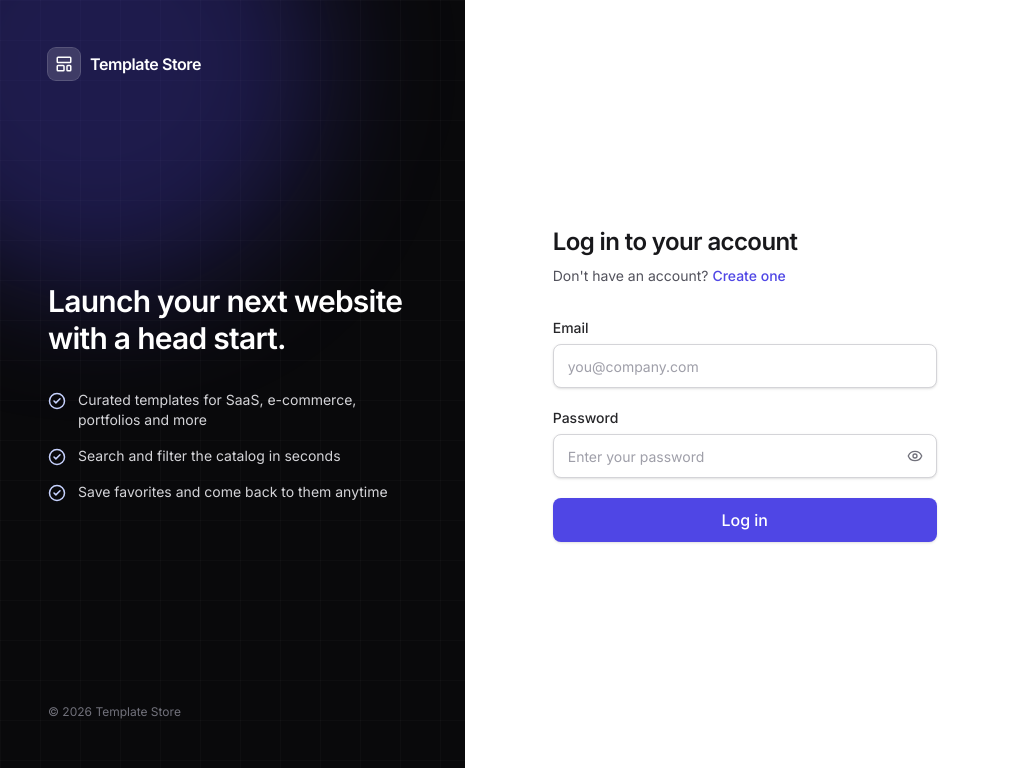
Test: Login page › shows the API error when credentials are rejected
The image size is (1024, 768).
Type "ada@example.com" into the field labelled "Email" at (745, 366), box [553,344,937,388]
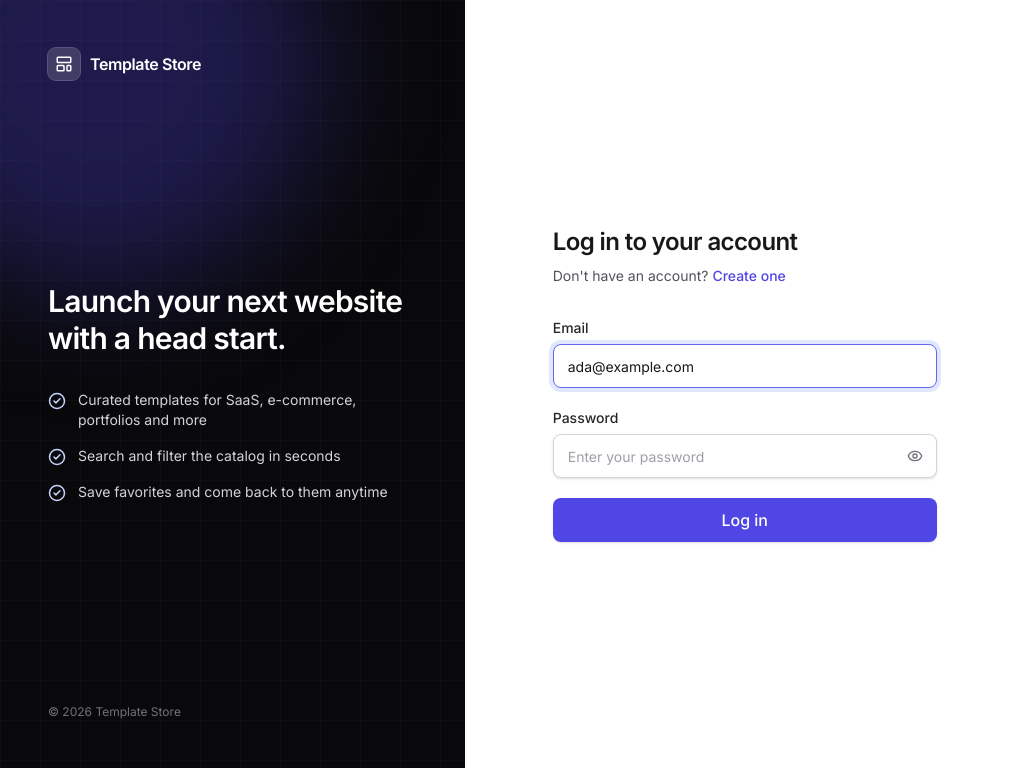
Type "WrongPass1" into the password field labelled "Password" at (745, 456), box [553,434,937,478]
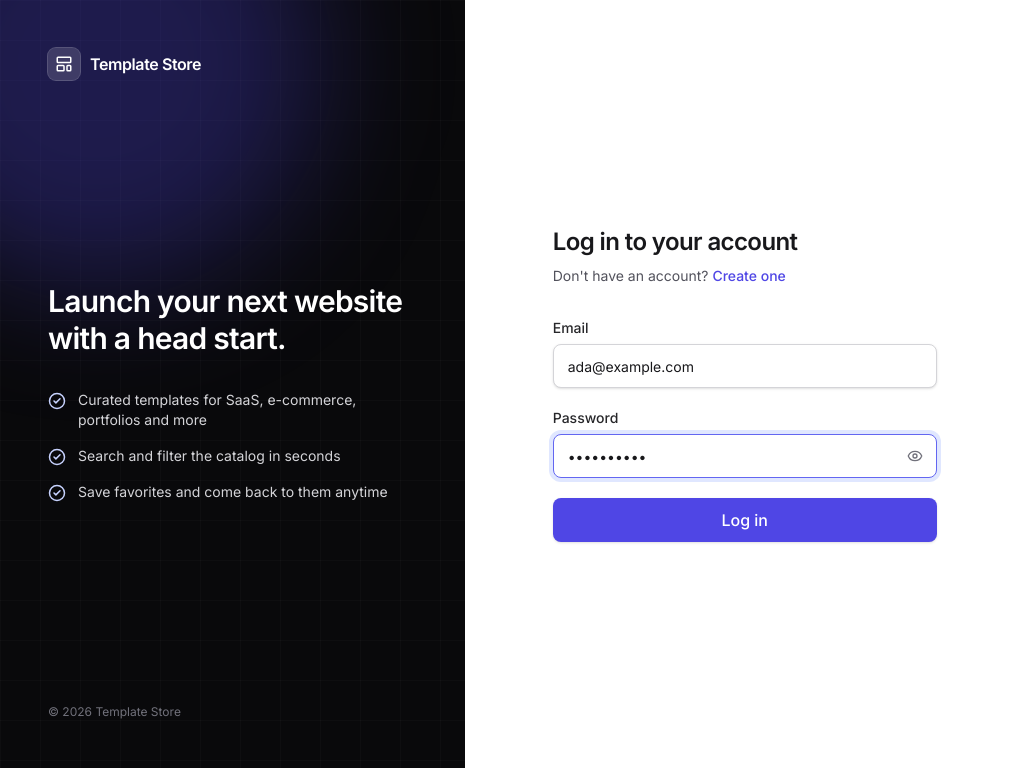
Click the button "Log in" at (745, 520), box [553,498,937,542]
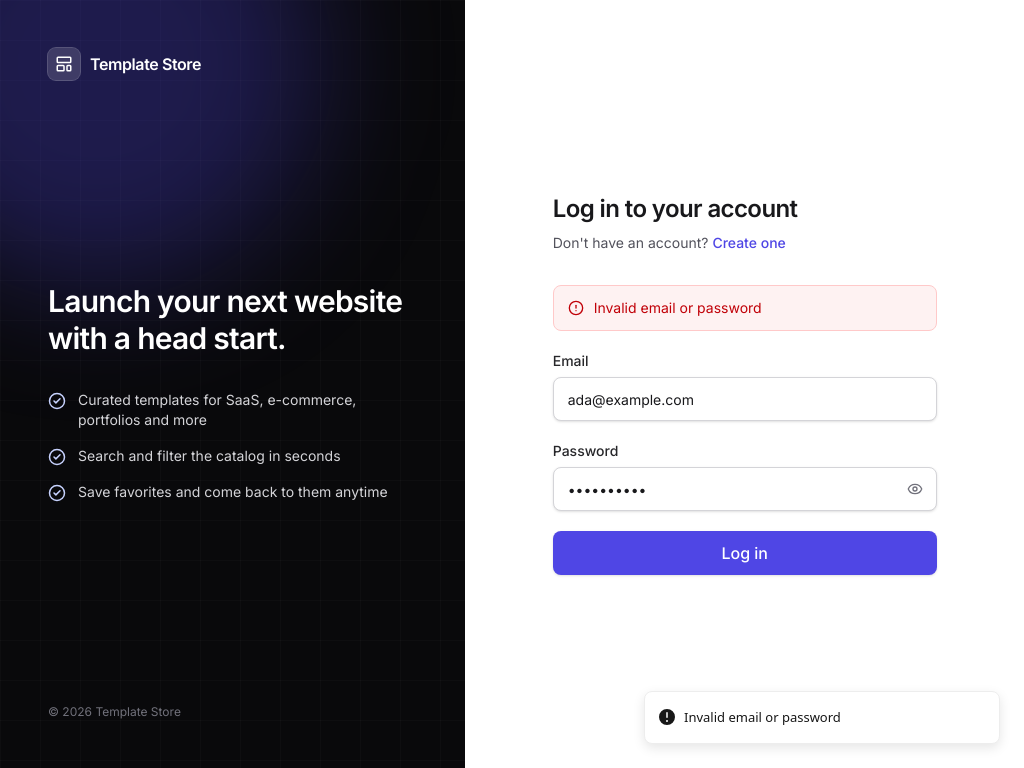
Expected: the heading "Log in to your account" is shown, [553,194,797,223]
Result: the message reads "Invalid email or password" at [594,299,762,316]
